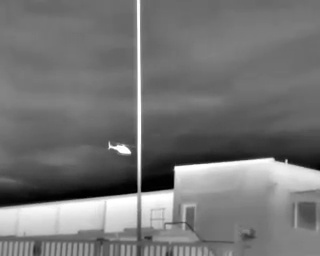HELICOPTER: (105, 136, 136, 160)
